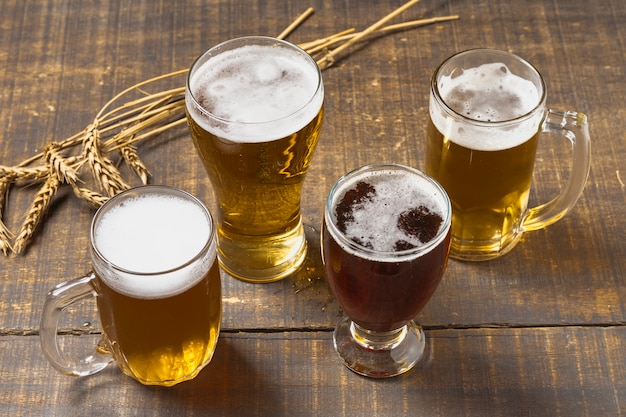alcohol: (39, 183, 223, 387), (426, 44, 594, 264), (184, 37, 327, 281), (324, 157, 453, 383)
